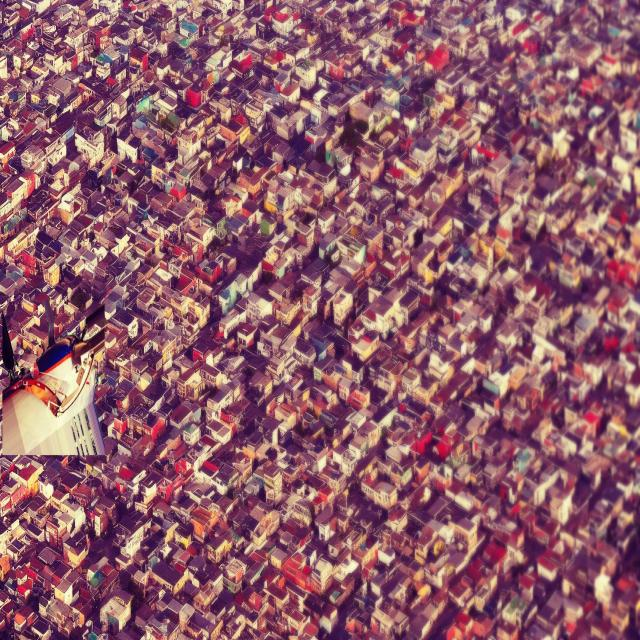airplane: (2, 310, 104, 456)
